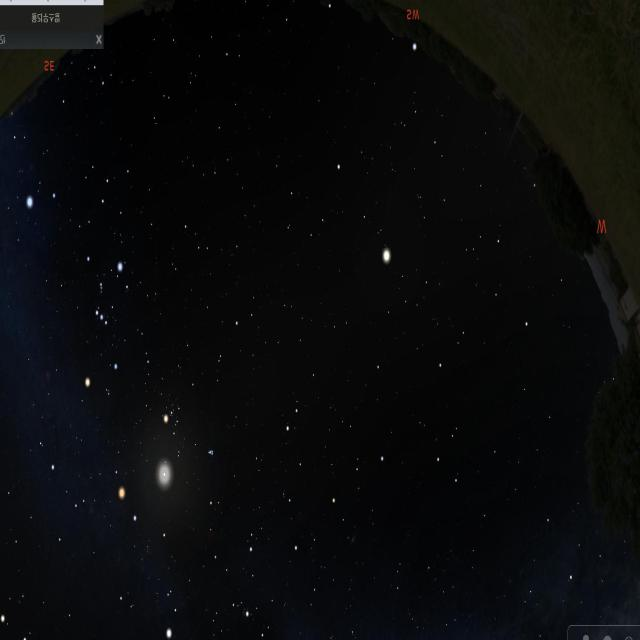canis_major: (12, 132, 56, 214)
gemini: (0, 496, 112, 640)
moon: (154, 452, 178, 508)
orion: (72, 246, 128, 410)
pleiades: (204, 440, 221, 460)
taurus: (158, 377, 220, 474)
